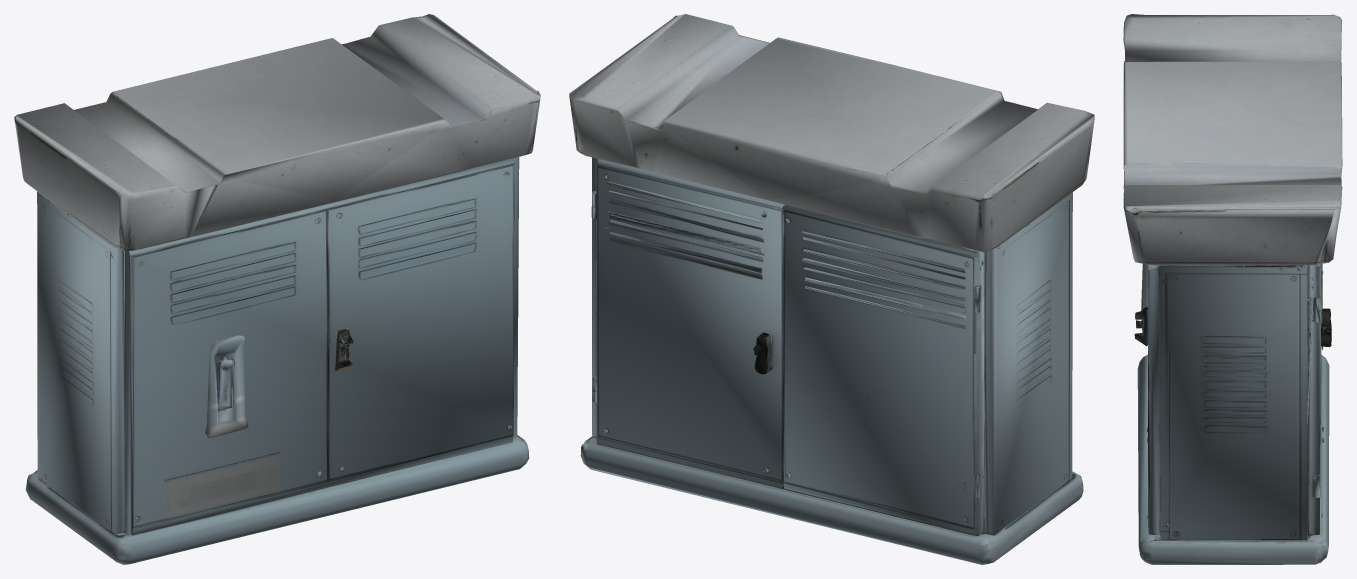
File: electric_box_upright.fbx
The picture shows the model from 3 angles, left to right: view 1: azimuth 30°, elevation 25°; view 2: azimuth 150°, elevation 25°; view 3: azimuth 270°, elevation 25°; orthographic projection. The views are drawn at different scales.
Parts seen in each view (by area): view 1: mesh_node; view 2: mesh_node; view 3: mesh_node.
Part boxes in pixels (x1=…): mesh_node: x1=14, y1=14, x2=540, y2=564; mesh_node: x1=569, y1=14, x2=1094, y2=564; mesh_node: x1=1123, y1=14, x2=1342, y2=564.
Bounding box in the file's own units: 1.73 × 1.5 × 0.8239.
